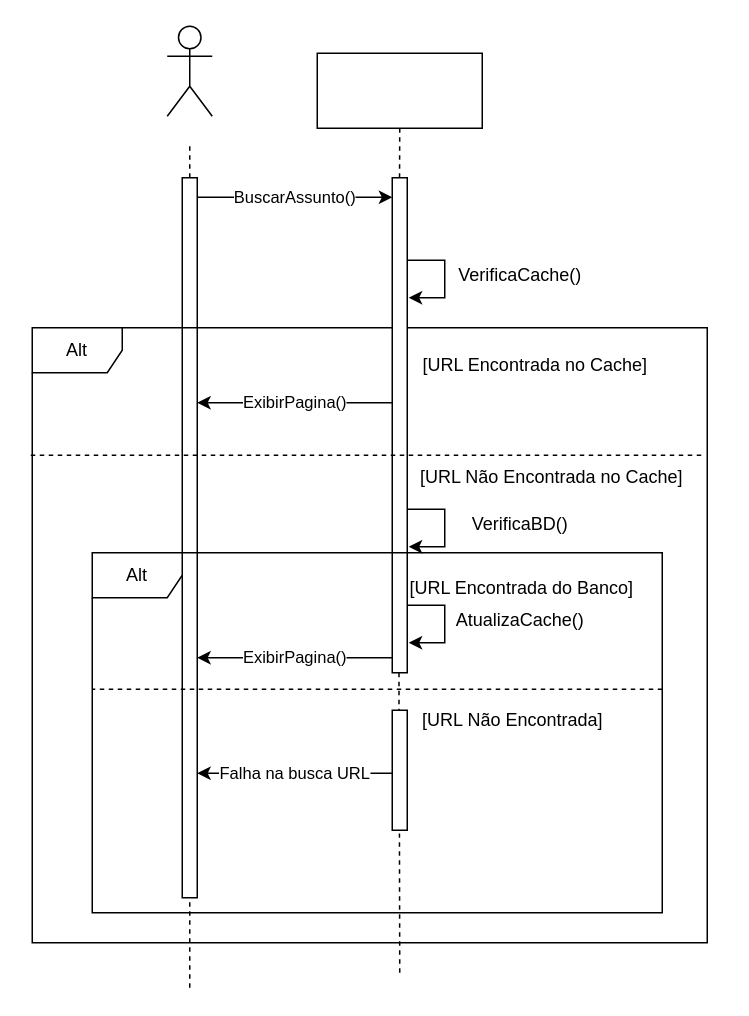
The diagram is 749 pixels wide and 1016 high, and some of its shapes have lost their labels. Here are the shapes that lost their labels. From the top down, the centre of each, then its label:
At [189,70]: "Cliente".
At [399,90]: "Armazenamento".
